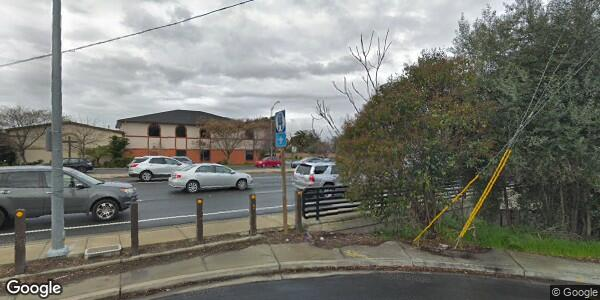Steel_Pole: (45, 1, 71, 258)
